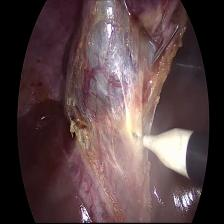Hook: (131, 117, 193, 186)
